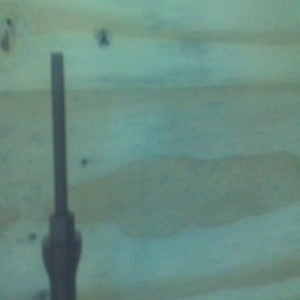obeng: (40, 51, 83, 300)
